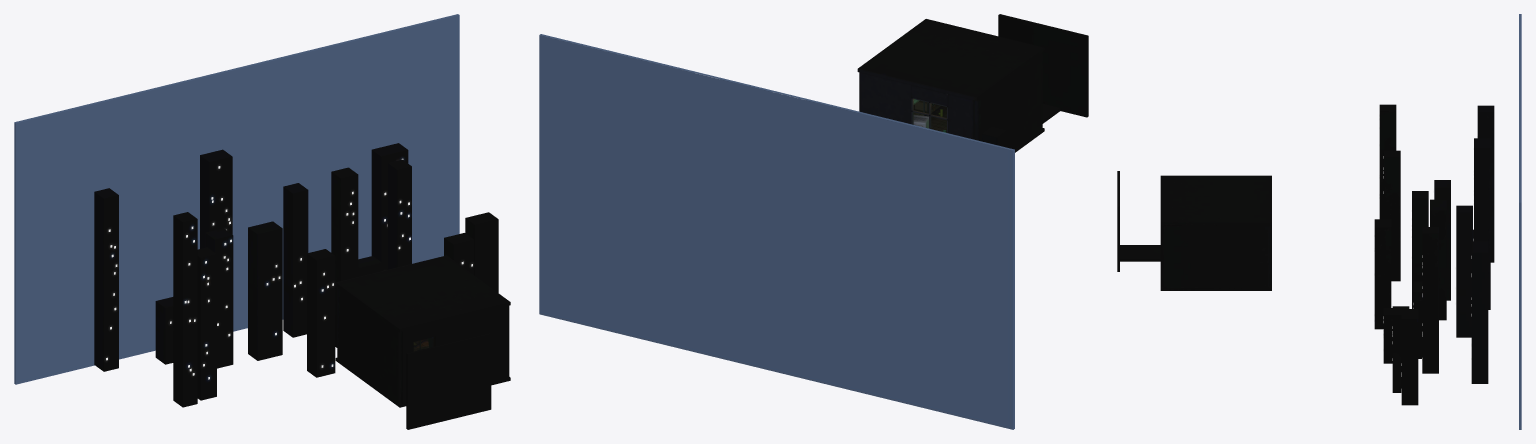
Rendered from room.glb.
3 renders of one model, left to right at view 1: azimuth 30°, elevation 25°; view 2: azimuth 150°, elevation 25°; view 3: azimuth 270°, elevation 25°, orthographic. The views are drawn at different scales.
Visible parts, largest first — view 1: shell; view 2: shell; view 3: shell.
Boxes of the visible parts, bbox=[...] form: shell: bbox=[14, 14, 510, 429]; shell: bbox=[539, 14, 1088, 429]; shell: bbox=[1117, 14, 1521, 429].
Bounding box in the file's own units: 16 × 9 × 14.5.
Materials: 3 (3 with a texture image).
